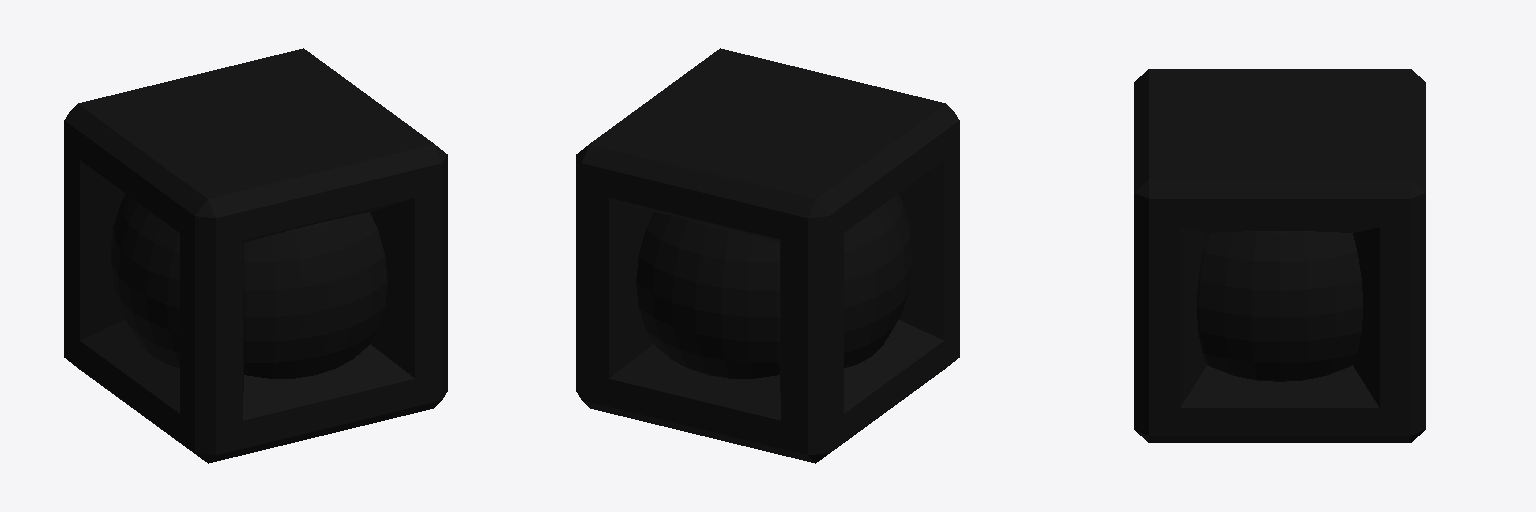
The model's file is gyro_module.obj.
3 views of the same model, side by side, from view 1: azimuth 30°, elevation 25°; view 2: azimuth 150°, elevation 25°; view 3: azimuth 270°, elevation 25° (orthographic).
Parts seen in each view (by area): view 1: Cube; view 2: Cube; view 3: Cube.
Boxes of the visible parts, box(x1,y1,x2,y2) form: Cube: box(64, 48, 447, 463); Cube: box(576, 48, 959, 463); Cube: box(1134, 69, 1425, 442).
Bounding box in the file's own units: 2 × 2 × 2.